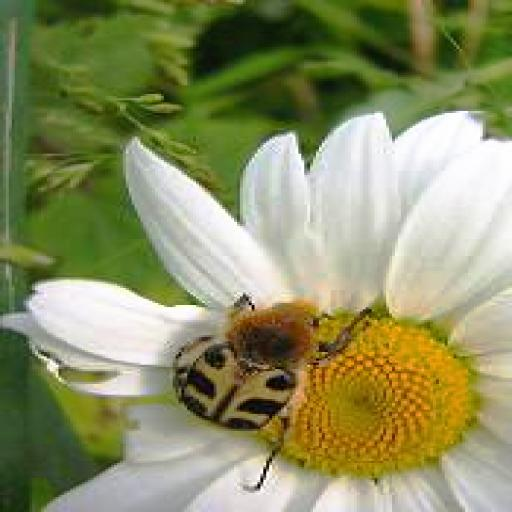daisy: (8, 2, 512, 512)
